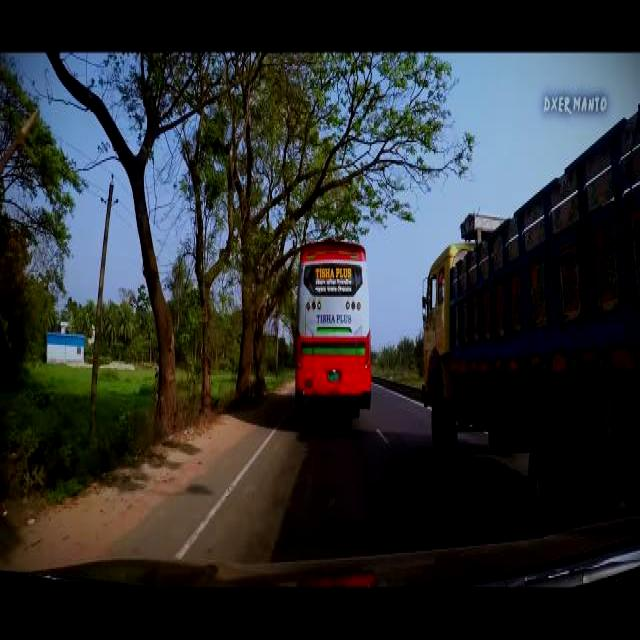BUS: (296, 196, 374, 433)
TRUCK: (420, 111, 640, 521)
